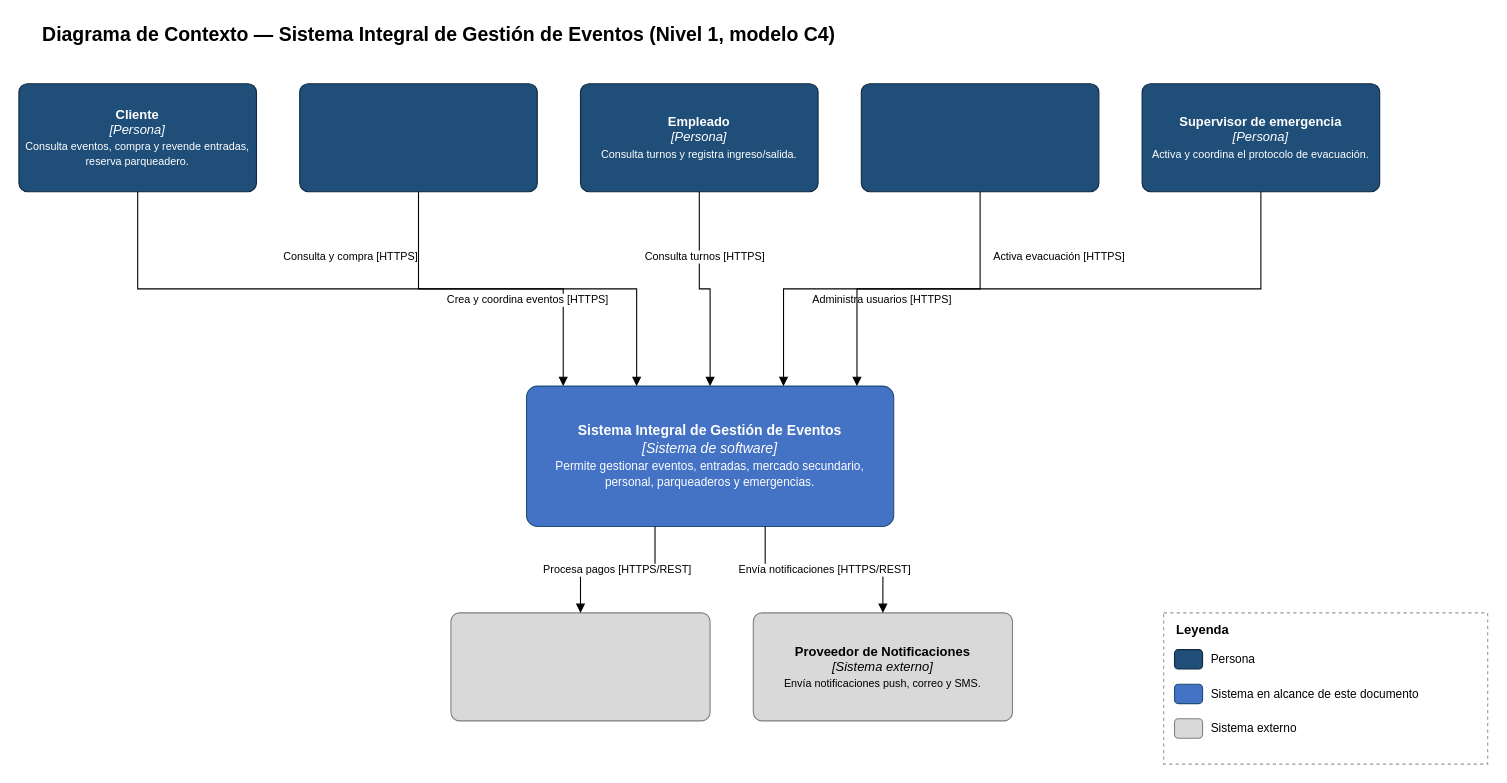
Image size: 1507x783. Some labels were removed from this diagram. Here are the shapes that lost their labels. From the top down, the centre of each, then its label:
At [418,137]: "Organizador [Persona] Crea eventos, asigna personal y coordina la operación.".
At [979,137]: "Administrador [Persona] Administra usuarios, personal y configuración.".
At [580,666]: "Pasarela de Pagos [Sistema externo] Procesa compras, reventas y reembolsos.".
